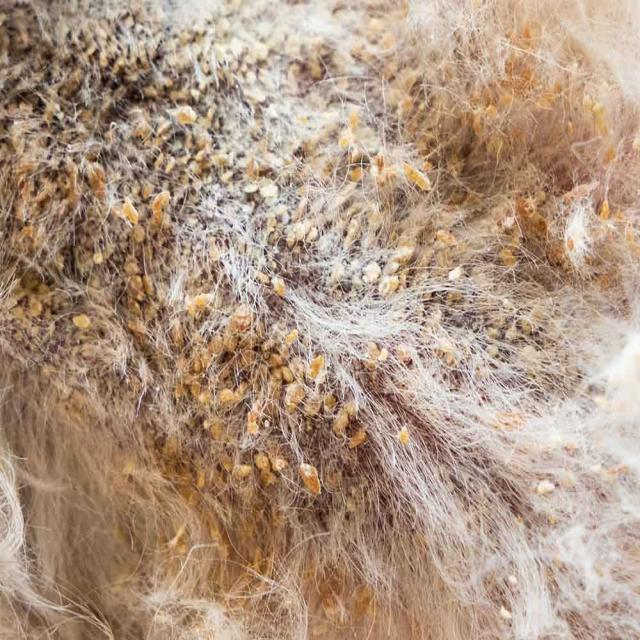fungal infection: (0, 0, 268, 393), (448, 60, 638, 272), (185, 391, 386, 500), (288, 179, 443, 309), (279, 327, 459, 402), (324, 96, 424, 177)
